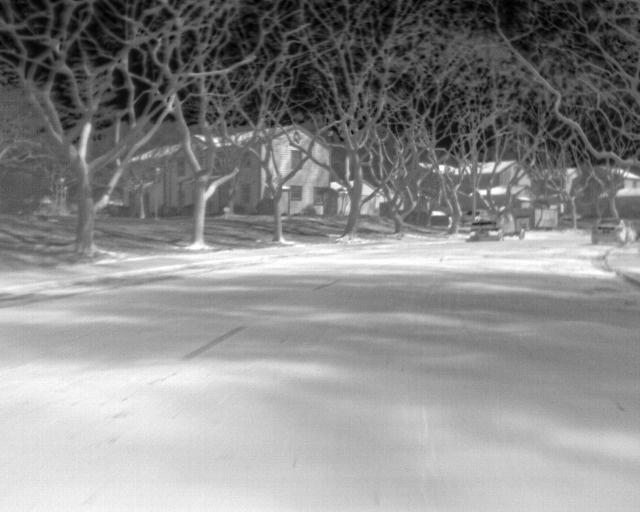car: (589, 216, 628, 247), (457, 206, 483, 226)
